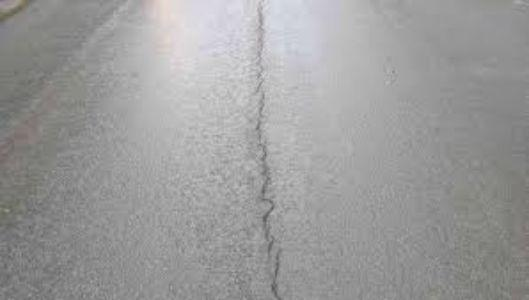pothole: (250, 1, 284, 300)
